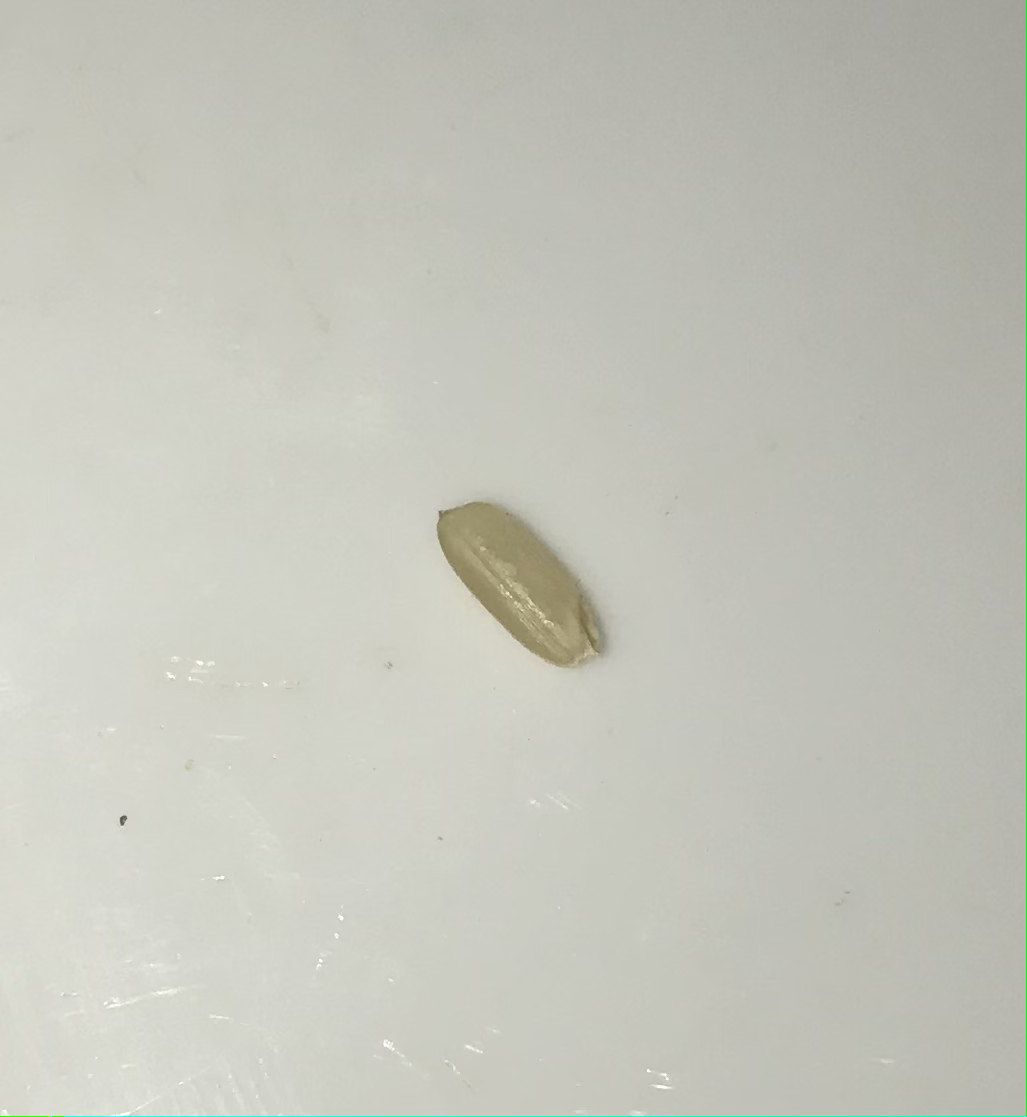Gao Lut Trang: (427, 471, 621, 680)
